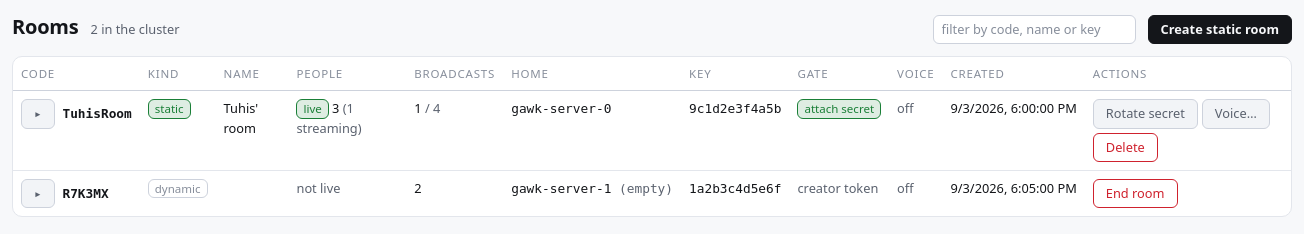
Test: the room list (docs/44 D20) › filters by code, display name or key as typed
This screenshot has width=1304, height=234.
Expected: the text "TuhisRoom" is shown, [62,106,132,122]
Type "tuhis" into the field named "Filter rooms" at (1034, 30), box [933,15,1136,44]
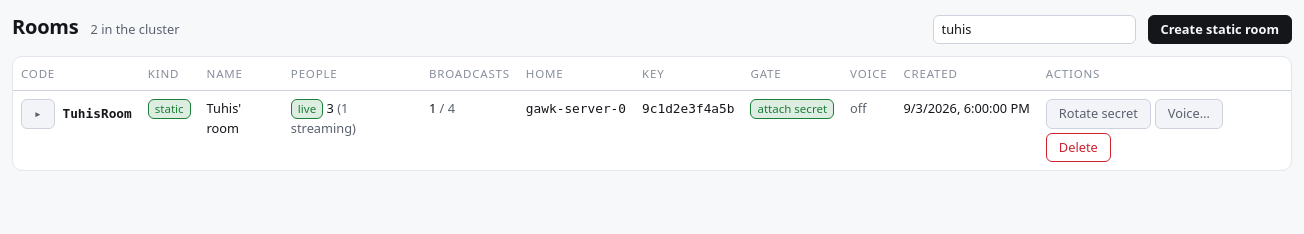
Expected: the text "TuhisRoom" is shown, [62,106,132,122]
Expected: the text "R7K3MX" is gone
Replace the text in the field named "Filter rooms" with "nothing-here" at (1034, 30), box [933,15,1136,44]
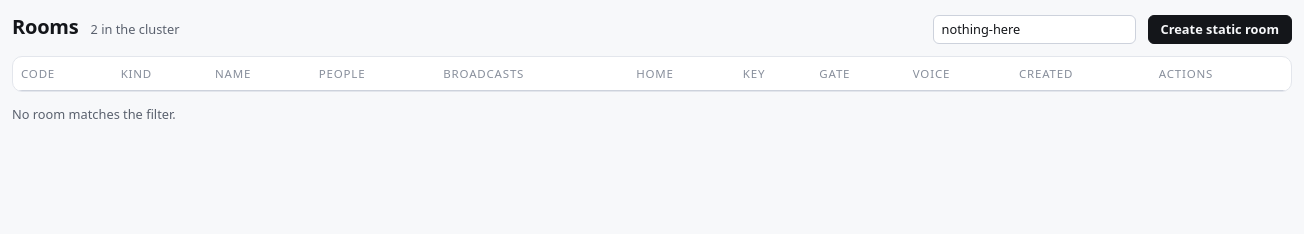
Expected: the text "No room matches the filter." is shown, [12,105,176,123]
